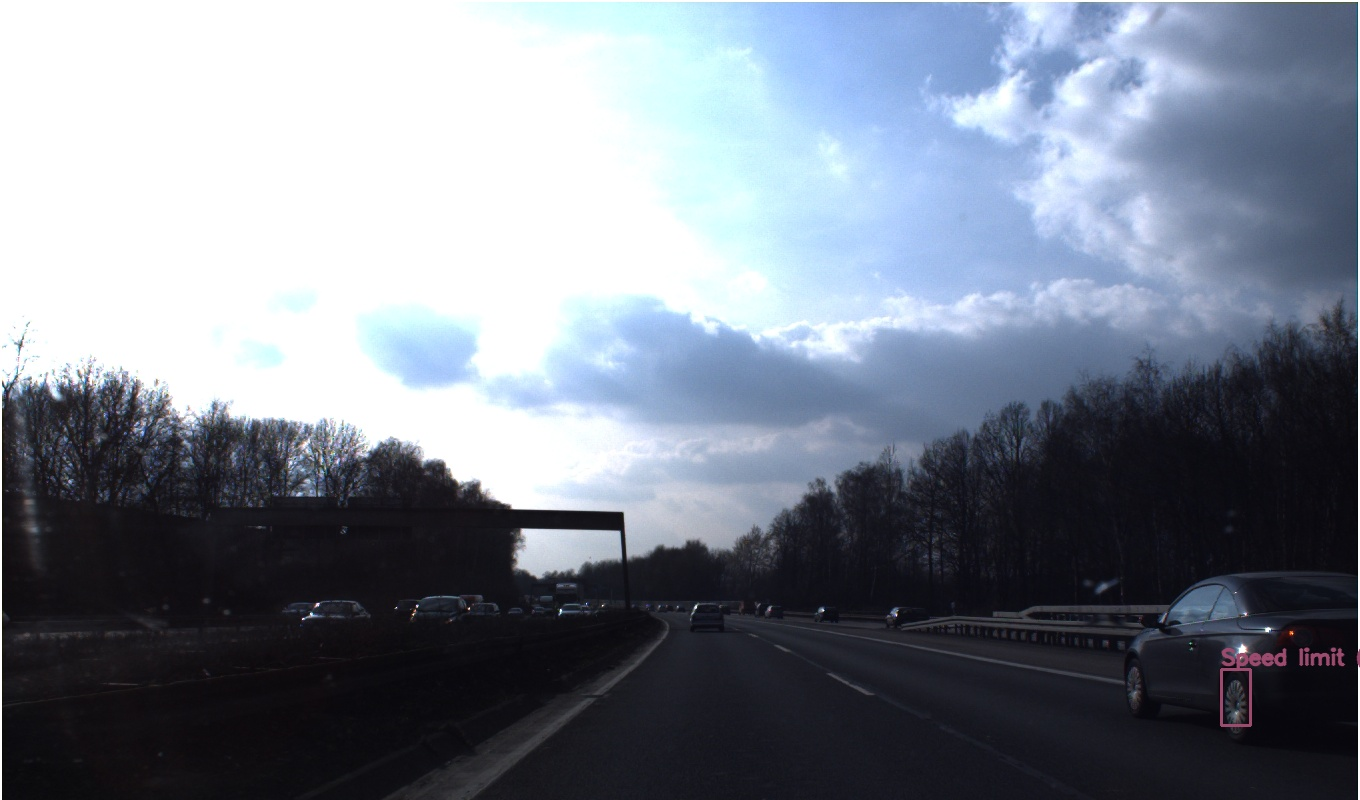Speed limit (50km/h): (369, 446, 392, 469), (729, 433, 750, 455)
